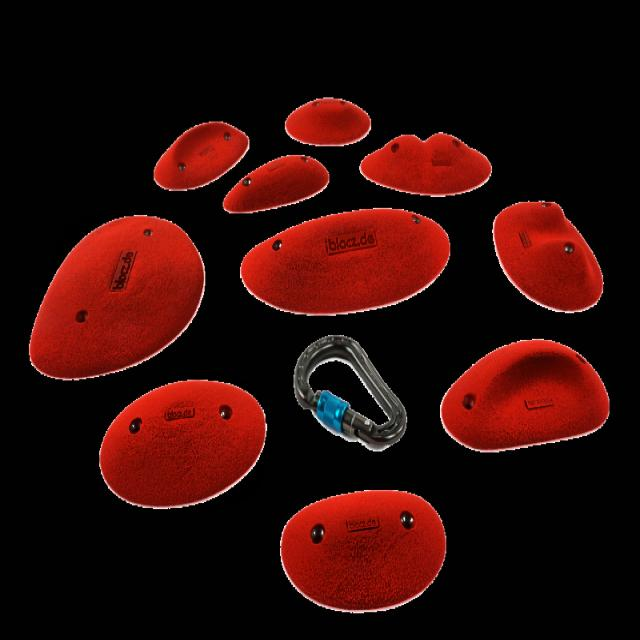Hold: (31, 210, 203, 386), (234, 210, 451, 314), (96, 380, 272, 506), (438, 334, 612, 454), (280, 488, 446, 612), (492, 198, 609, 305), (364, 130, 486, 193), (150, 111, 249, 188), (226, 155, 330, 222), (281, 94, 368, 146)
